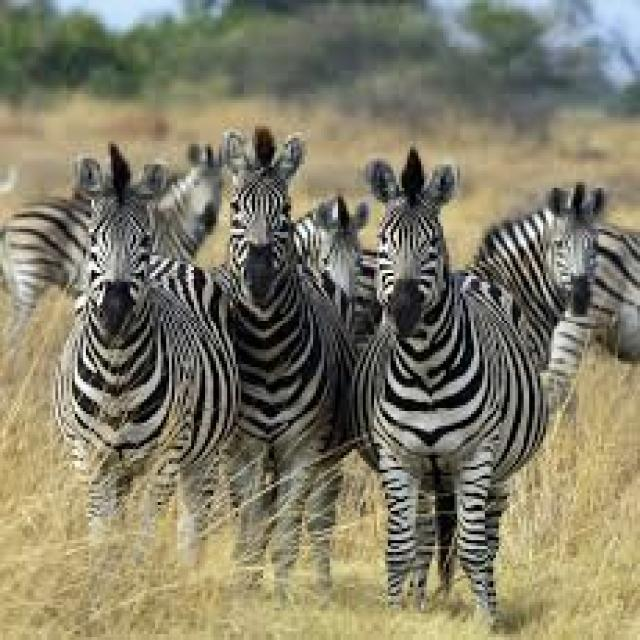zebra: (352, 147, 546, 614), (55, 144, 235, 534), (219, 126, 346, 593), (471, 185, 601, 367), (294, 194, 371, 338)
